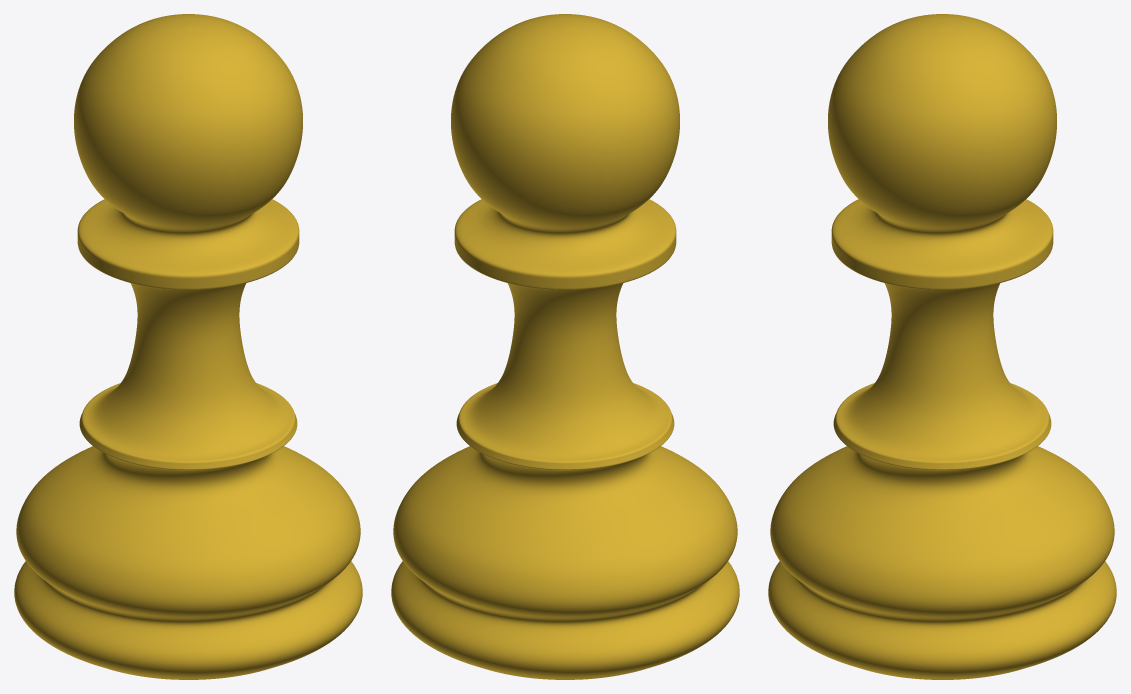
File: Pawn.FBX
3 views of the same model, side by side, from view 1: azimuth 30°, elevation 25°; view 2: azimuth 150°, elevation 25°; view 3: azimuth 270°, elevation 25° (orthographic).
Parts seen in each view (by area): view 1: Circle; view 2: Circle; view 3: Circle.
Boxes of the visible parts, bbox=[...] form: Circle: bbox=[14, 14, 362, 679]; Circle: bbox=[391, 14, 739, 679]; Circle: bbox=[768, 14, 1116, 679].
Size of the model in its own units: 185 by 351 by 185.
